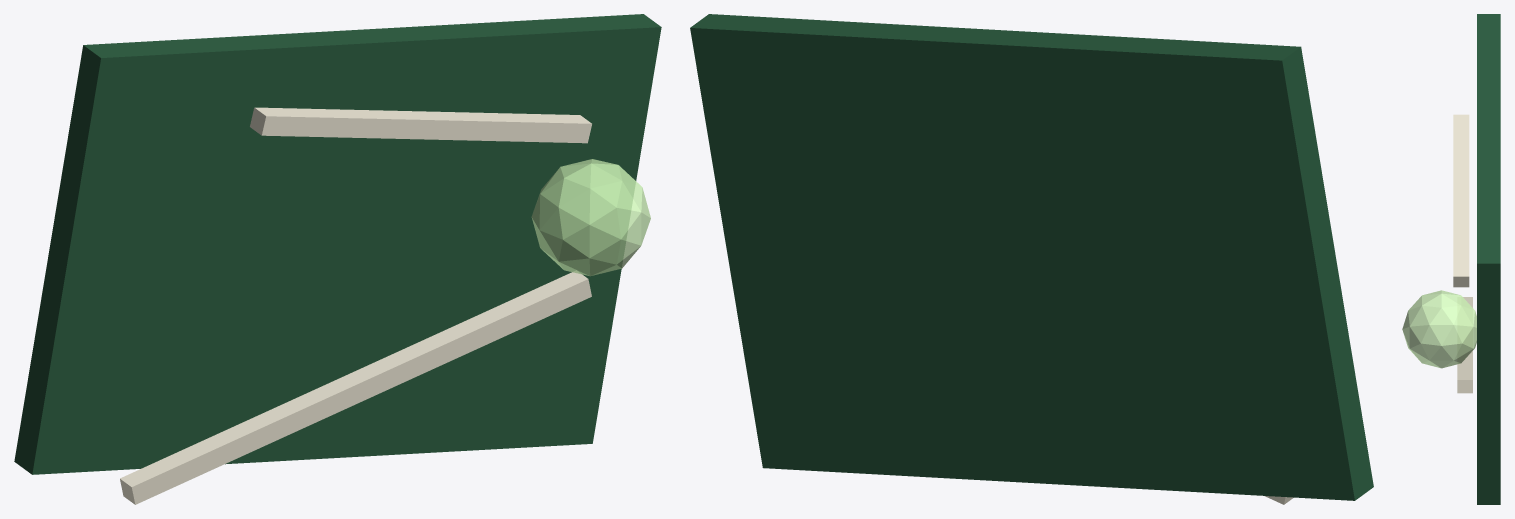
Rendered from 02_world_prop_polish.glb.
The picture shows the model from 3 angles, left to right: view 1: azimuth 30°, elevation 25°; view 2: azimuth 150°, elevation 25°; view 3: azimuth 270°, elevation 25°; orthographic projection. The views are drawn at different scales.
Parts seen in each view (by area): view 1: object_overlay_plate, edge_wear_a, glow_socket, edge_wear_b; view 2: object_overlay_plate; view 3: object_overlay_plate, glow_socket, edge_wear_b, edge_wear_a.
Part boxes in pixels (box(x1,y1,x2,y2)): object_overlay_plate: box(14, 14, 661, 474); edge_wear_a: box(120, 271, 591, 504); glow_socket: box(531, 159, 650, 276); edge_wear_b: box(250, 107, 591, 143); object_overlay_plate: box(690, 14, 1373, 500); object_overlay_plate: box(1477, 14, 1500, 504); glow_socket: box(1402, 290, 1476, 368); edge_wear_b: box(1453, 114, 1469, 287); edge_wear_a: box(1457, 297, 1472, 393).
Size of the model in its own units: 1.22 by 0.9332 by 0.25.
